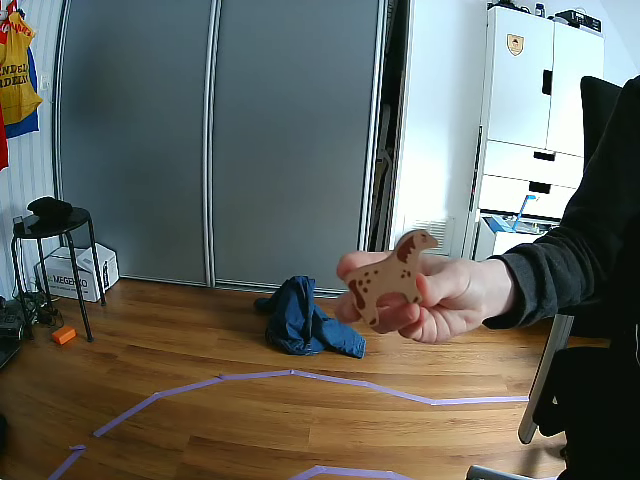paard: (349, 228, 437, 327)
